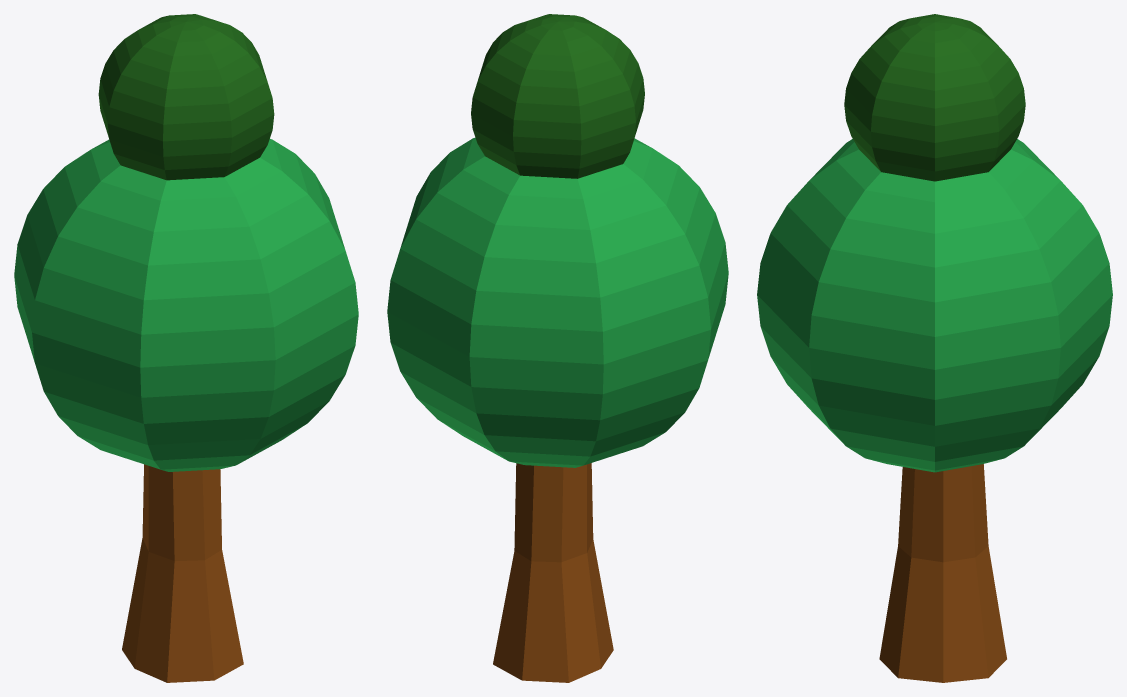
Rendered from arbol3.fbx.
3 renders of one model, left to right at view 1: azimuth 30°, elevation 25°; view 2: azimuth 150°, elevation 25°; view 3: azimuth 270°, elevation 25°, orthographic.
Visible parts, largest first — view 1: Sphere.003, Sphere.004, Cylinder.002; view 2: Sphere.003, Sphere.004, Cylinder.002; view 3: Sphere.003, Sphere.004, Cylinder.002.
Part boxes in pixels (x1,y1,x2,y2): Sphere.003: [14, 139, 358, 471]; Sphere.004: [98, 14, 274, 180]; Cylinder.002: [122, 464, 243, 682]; Sphere.003: [387, 137, 728, 467]; Sphere.004: [471, 14, 644, 178]; Cylinder.002: [493, 463, 613, 682]; Sphere.003: [757, 139, 1112, 472]; Sphere.004: [844, 14, 1025, 181]; Cylinder.002: [879, 464, 1006, 682].
Bounding box in the file's own units: 323 × 638 × 323.
